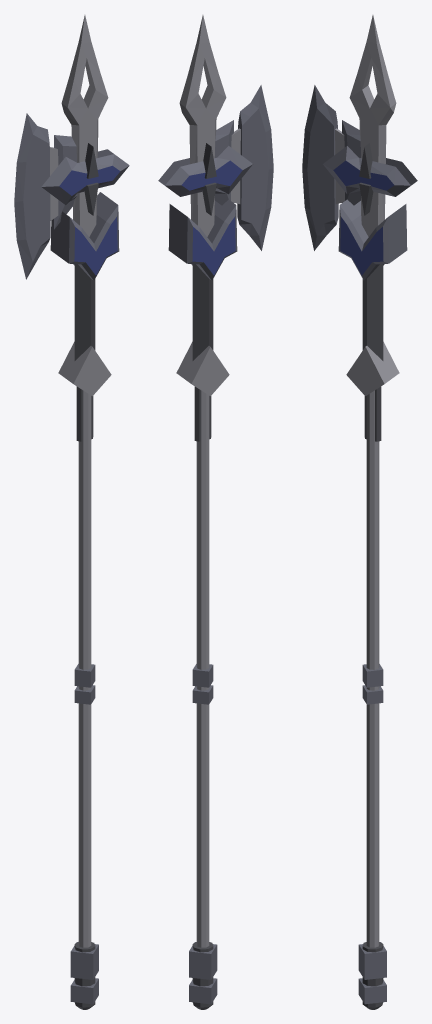
File: Lanca_B11.fbx
3 views of the same model, side by side, from view 1: azimuth 30°, elevation 25°; view 2: azimuth 210°, elevation 25°; view 3: azimuth 330°, elevation 25° (orthographic).
Visible parts, largest first — view 1: polearm_11; view 2: polearm_11; view 3: polearm_11.
Boxes of the visible parts, <box> form: polearm_11: <box>14,15,129,1009</box>; polearm_11: <box>158,15,273,1009</box>; polearm_11: <box>302,15,417,1009</box>.
Bounding box in the file's own units: 23.8 × 201 × 8.14.
